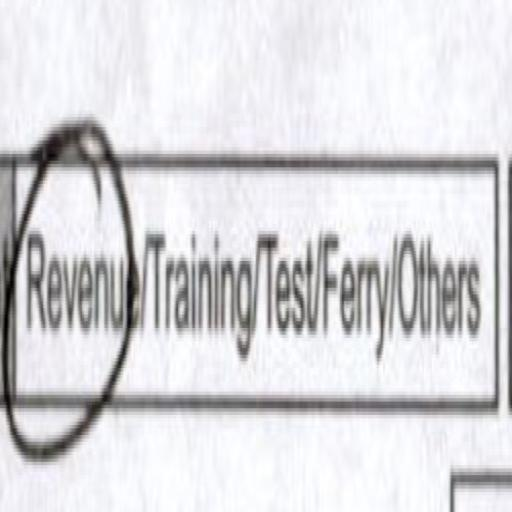check: (20, 82, 145, 452)
